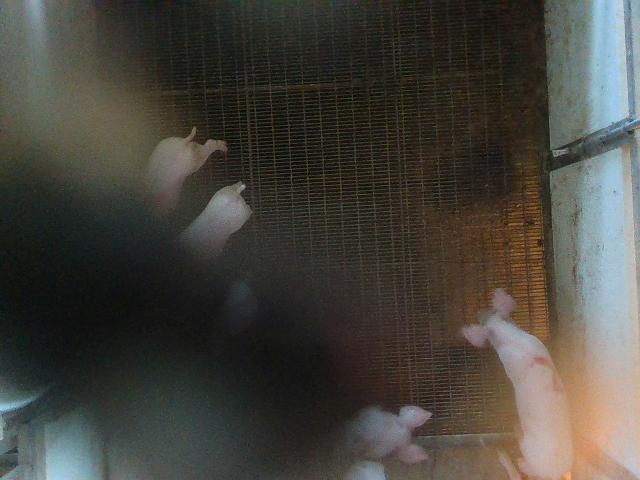pig-2: (464, 290, 574, 478)
